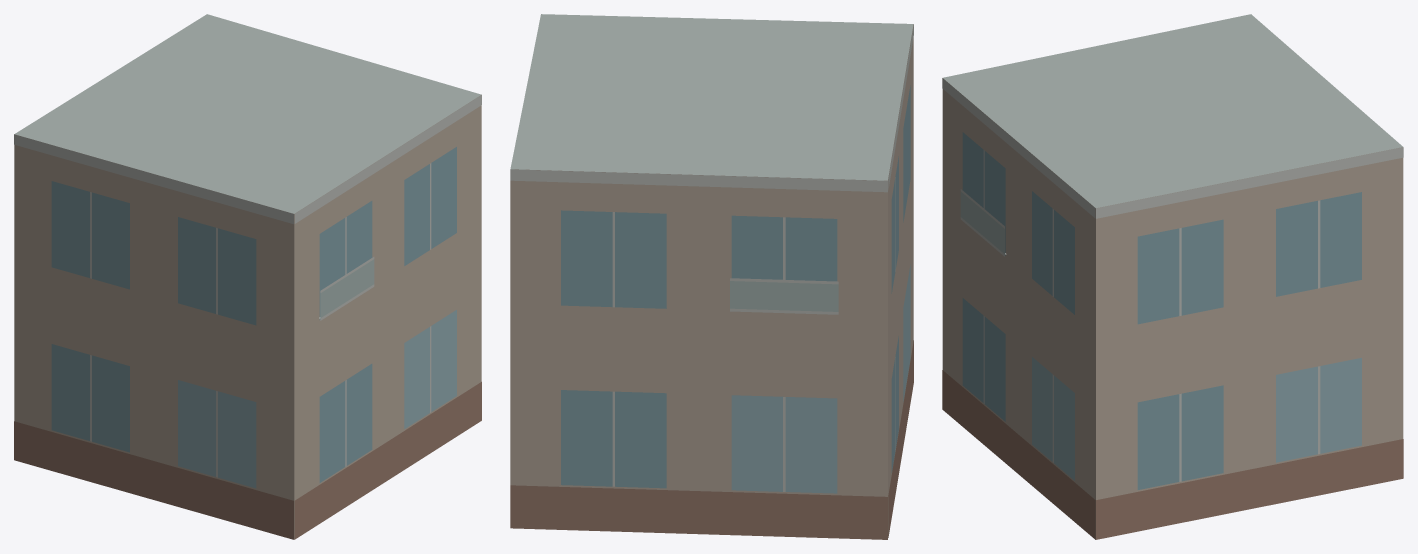
The model's file is survey-upis-32595946.glb.
3 views of the same model, side by side, from view 1: azimuth 30°, elevation 25°; view 2: azimuth 150°, elevation 25°; view 3: azimuth 270°, elevation 25° (orthographic). The views are drawn at different scales.
Parts seen in each view (by area): view 1: survey-upis-32595946.tmp; view 2: survey-upis-32595946.tmp; view 3: survey-upis-32595946.tmp.
Part boxes in pixels (x1,y1,x2,y2): survey-upis-32595946.tmp: (14,14,481,539); survey-upis-32595946.tmp: (510,14,913,539); survey-upis-32595946.tmp: (942,14,1403,539).
Size of the model in its own units: 9.56 by 7.6 by 9.59.
